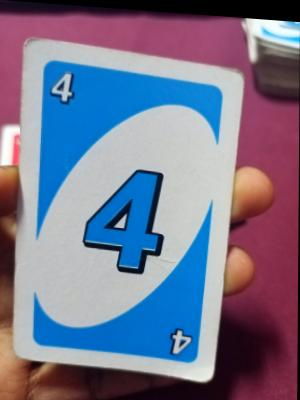blue: (36, 55, 206, 362)
num_4: (44, 62, 83, 111), (167, 319, 198, 357)
